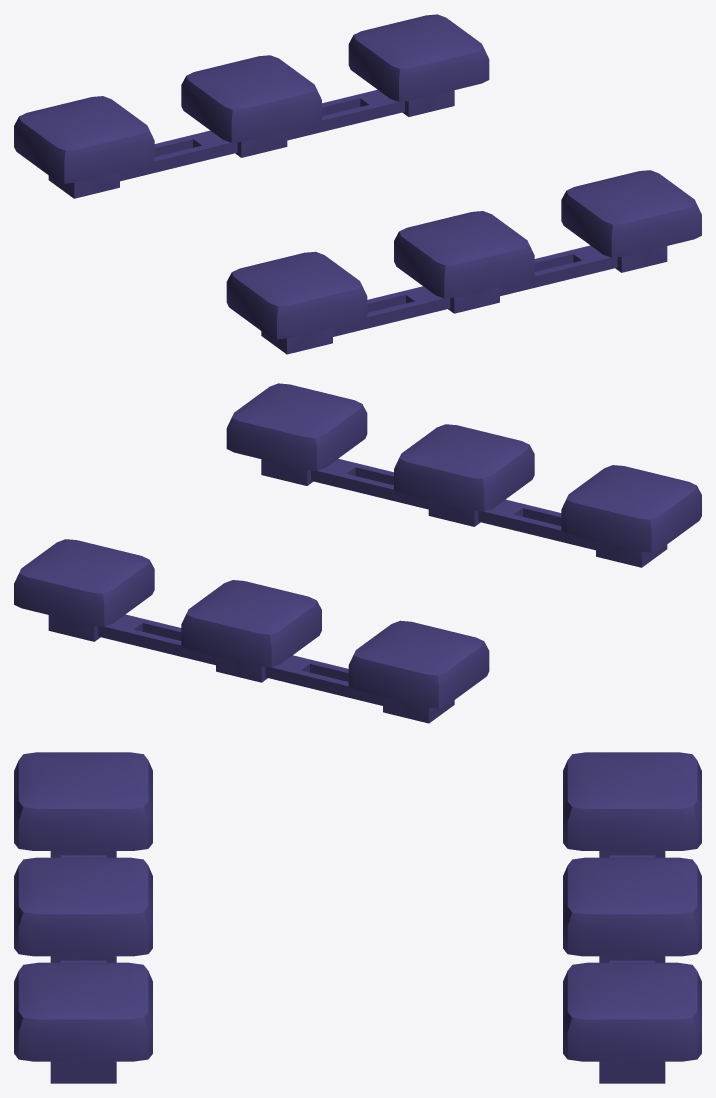
File: SM_Library_BenchReading.fbx
The picture shows the model from 3 angles, top to bottom: view 1: azimuth 30°, elevation 25°; view 2: azimuth 150°, elevation 25°; view 3: azimuth 270°, elevation 25°; orthographic projection. The views are drawn at different scales.
Parts seen in each view (by area): view 1: SM_Library_BenchReading; view 2: SM_Library_BenchReading; view 3: SM_Library_BenchReading.
Part boxes in pixels (x1,y1,x2,y2): SM_Library_BenchReading: [14, 14, 701, 354]; SM_Library_BenchReading: [14, 383, 701, 723]; SM_Library_BenchReading: [14, 752, 701, 1083].
Bounding box in the file's own units: 256 × 36.19 × 274.
